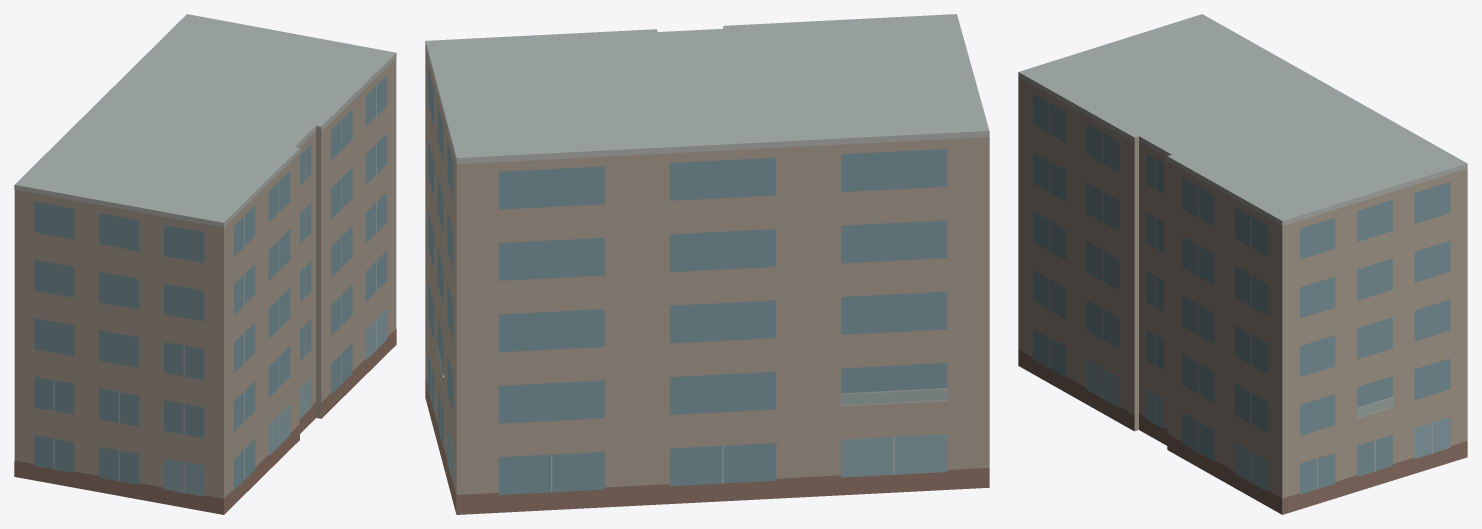
File: survey-upis-32971924.glb
3 views of the same model, side by side, from view 1: azimuth 30°, elevation 25°; view 2: azimuth 150°, elevation 25°; view 3: azimuth 270°, elevation 25° (orthographic). The views are drawn at different scales.
Visible parts, largest first — view 1: survey-upis-32971924.tmp; view 2: survey-upis-32971924.tmp; view 3: survey-upis-32971924.tmp.
Part boxes in pixels (bbox=[...]): survey-upis-32971924.tmp: bbox=[14, 14, 396, 514]; survey-upis-32971924.tmp: bbox=[425, 14, 989, 514]; survey-upis-32971924.tmp: bbox=[1018, 14, 1467, 514].
Size of the model in its own units: 21.78 by 14.4 by 19.96.
